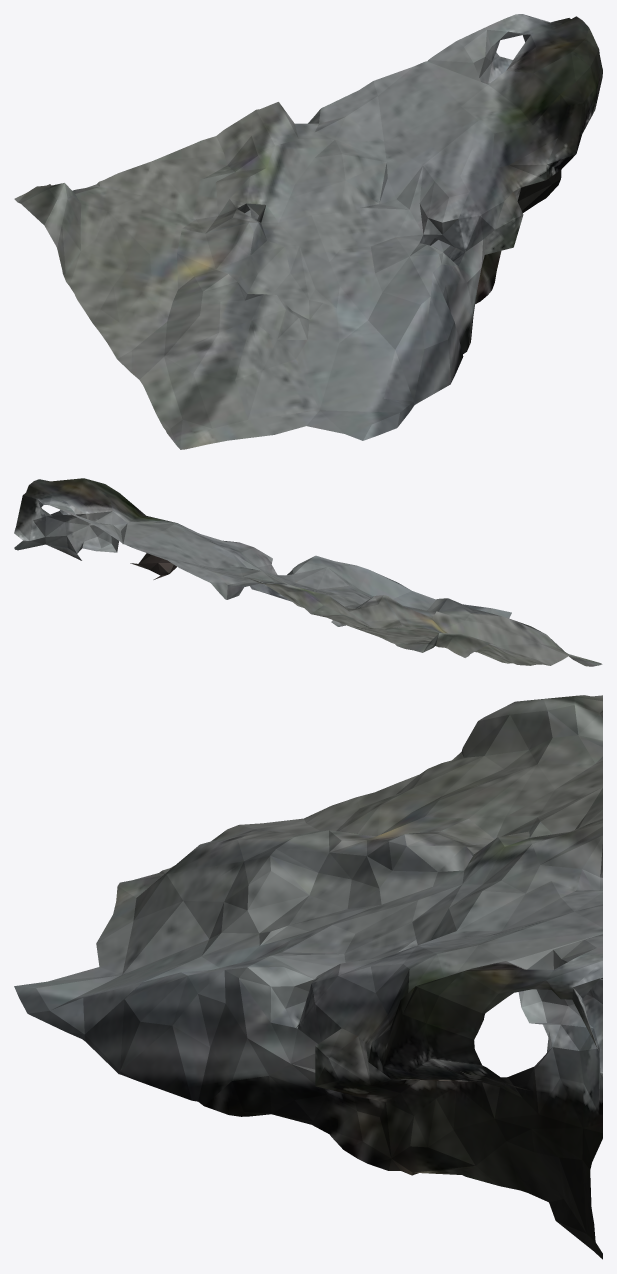
The picture shows the model from 3 angles, top to bottom: view 1: azimuth 30°, elevation 25°; view 2: azimuth 150°, elevation 25°; view 3: azimuth 270°, elevation 25°; orthographic projection. The views are drawn at different scales.
Size of the model in its own units: 0.8373 by 0.2827 by 0.5404.
2 materials, 2 textured.
